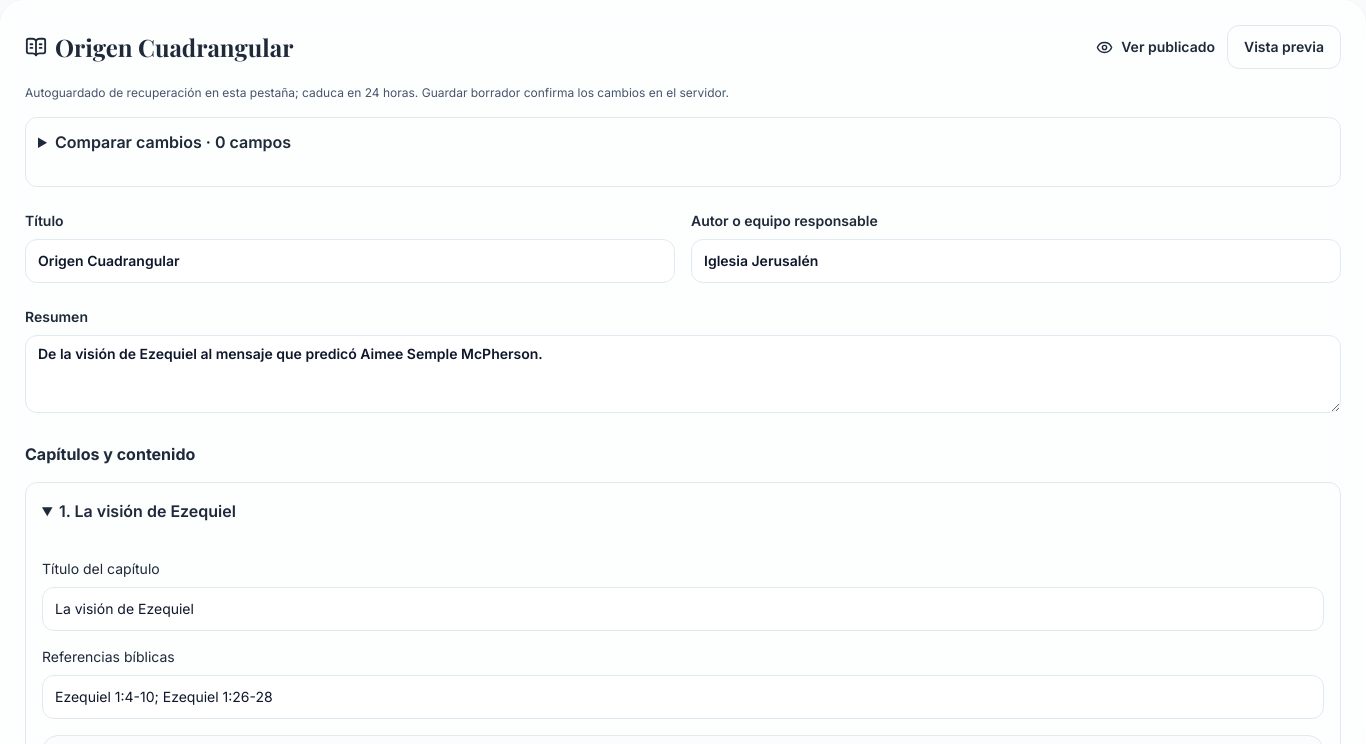
Pastoral editorial controls › requires saving before requesting review and preserves an error instead of claiming success
Replace the text in the field labelled "Título" with "Título actualizado" at (350, 261), box [25,239,675,283]
(page scrolled)
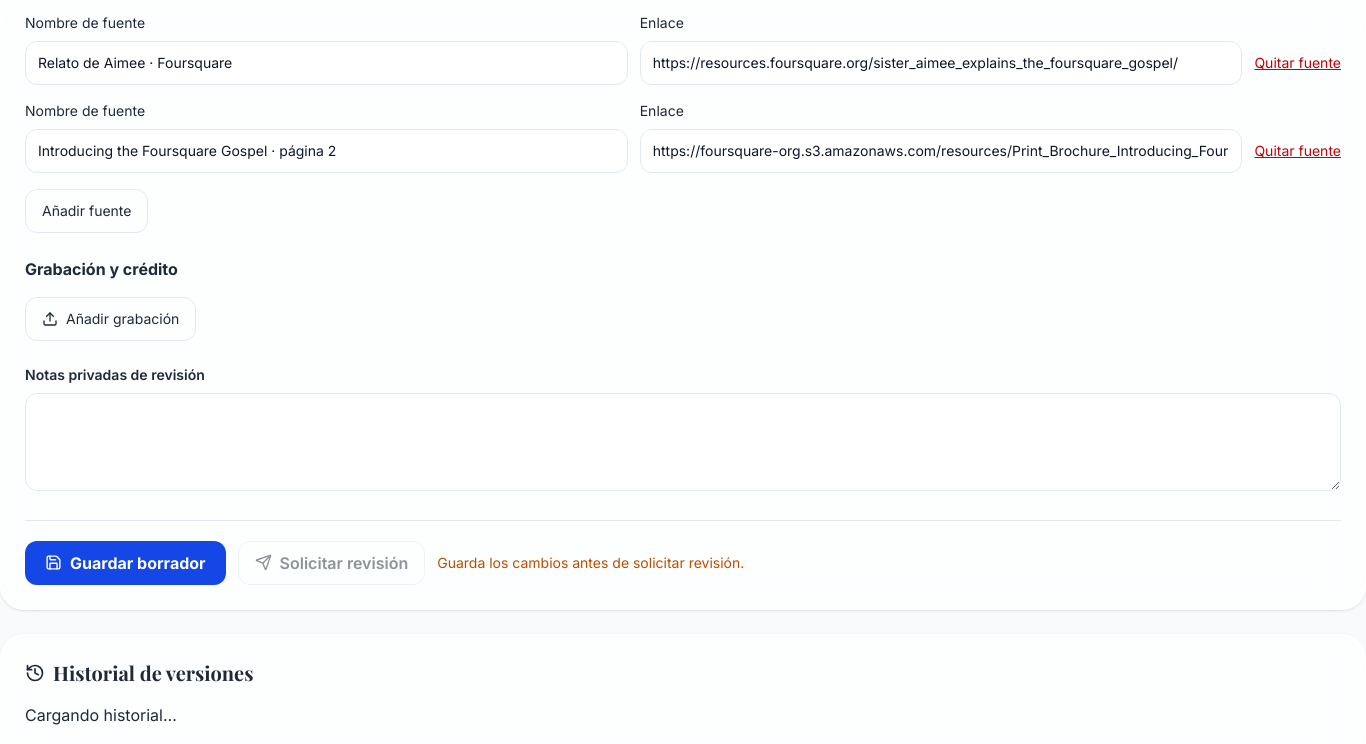
Expected: the button "Solicitar revisión" is disabled, [238,540,425,584]
Click the button "Guardar borrador" at (125, 562), box [25,540,226,584]
(page scrolled)
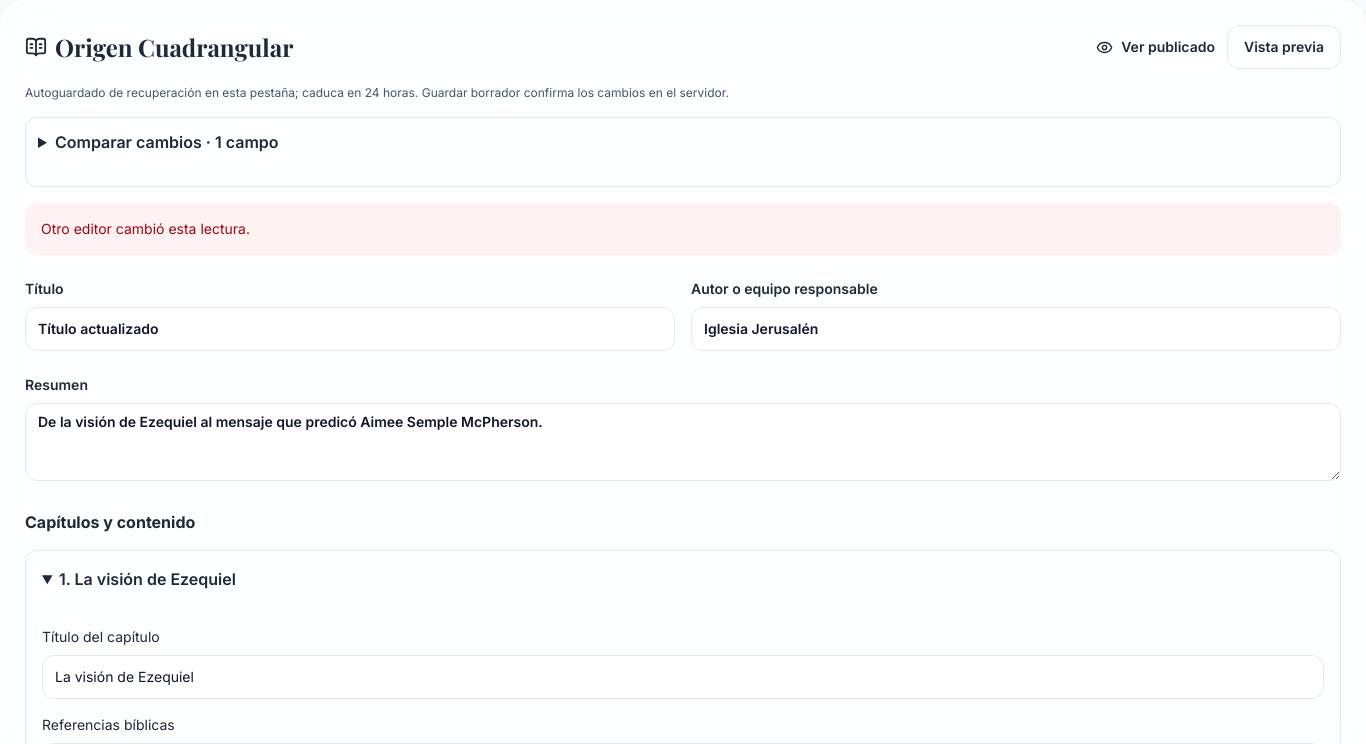
Expected: the message "Otro editor cambió esta lectura." is shown, [25,203,1341,255]
